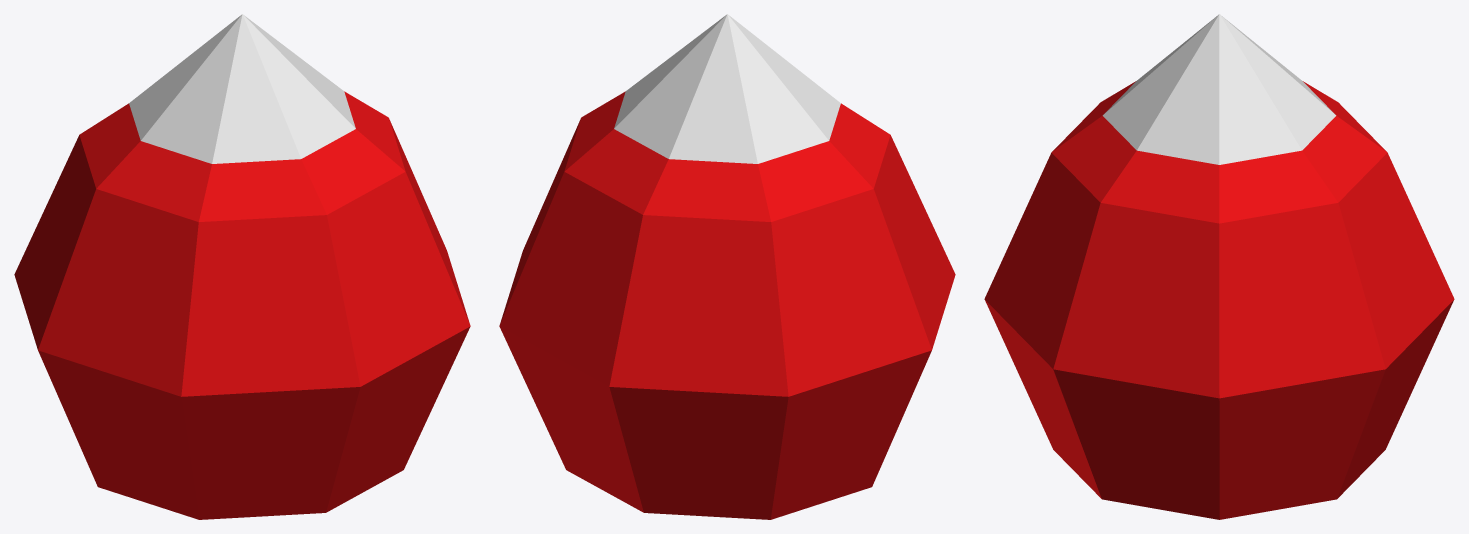
Rendered from buoy.fbx.
The picture shows the model from 3 angles, left to right: view 1: azimuth 30°, elevation 25°; view 2: azimuth 150°, elevation 25°; view 3: azimuth 270°, elevation 25°; orthographic projection.
Parts seen in each view (by area): view 1: buoy; view 2: buoy; view 3: buoy.
Part boxes in pixels (box(x1,y1,x2,y2)): buoy: box(14, 14, 470, 519); buoy: box(499, 14, 955, 519); buoy: box(984, 14, 1454, 519).
Size of the model in its own units: 0.3692 by 0.3692 by 0.4327.
